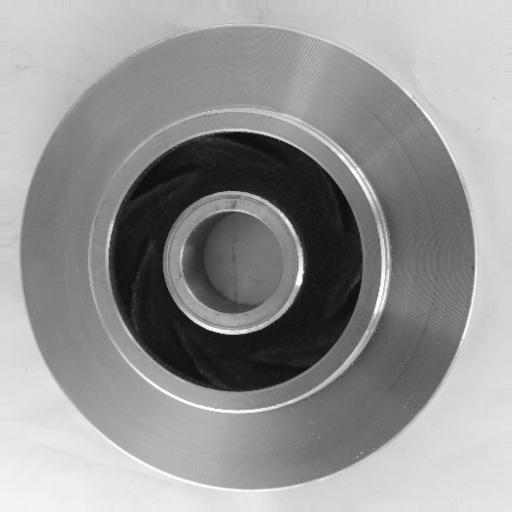polished_casting: (17, 25, 480, 493)
